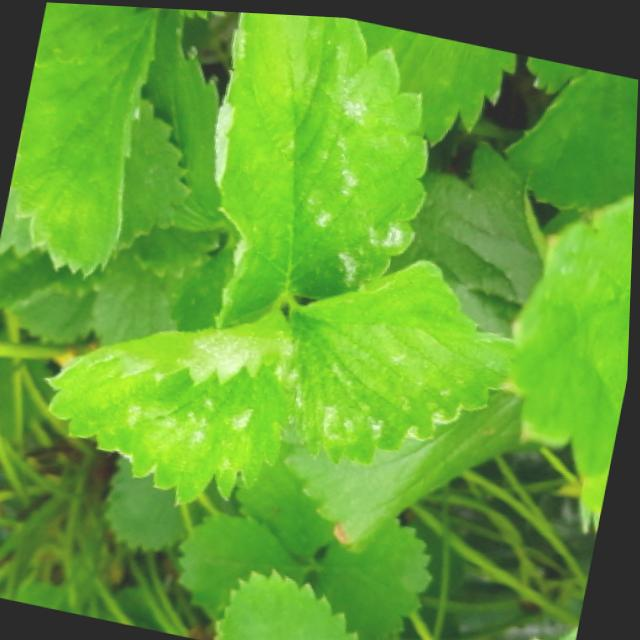Powdery Mildew Leaf: (213, 10, 431, 325), (46, 305, 298, 504), (288, 253, 518, 463)
